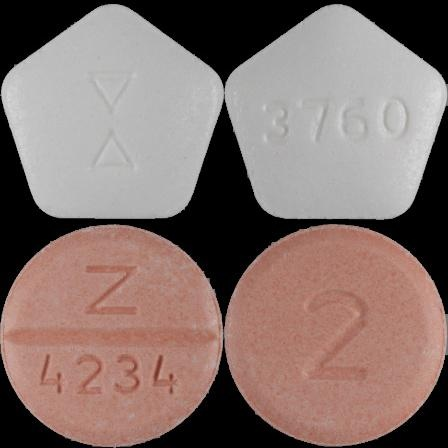0615-5531: (0, 0, 224, 224)
